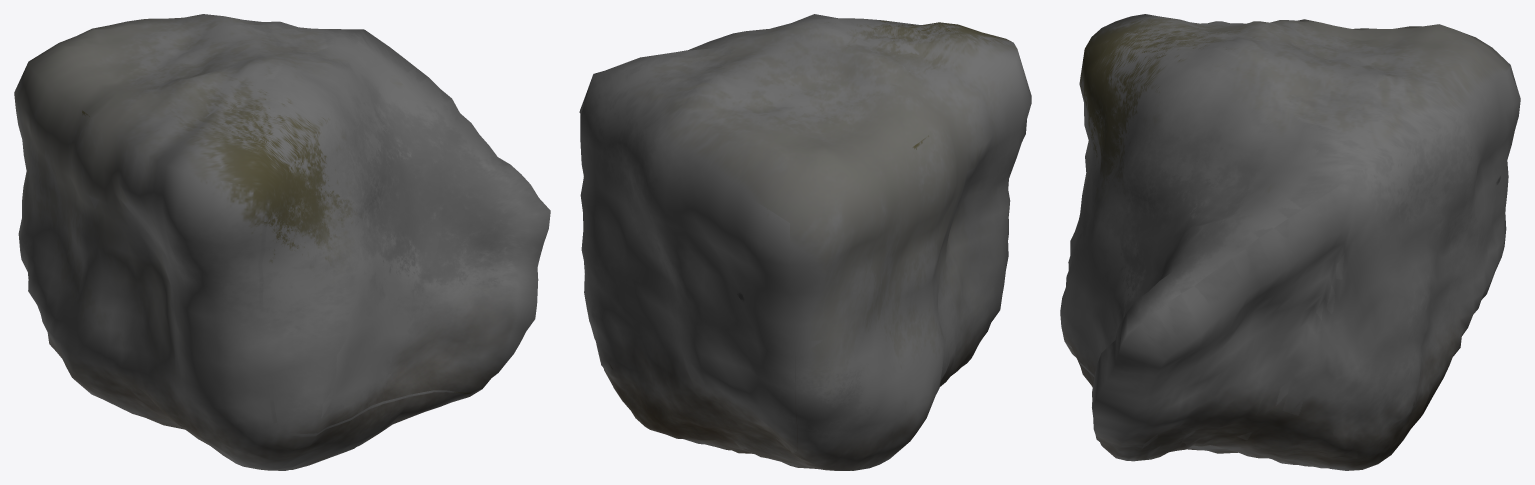
File: ROCK2.fbx
3 views of the same model, side by side, from view 1: azimuth 30°, elevation 25°; view 2: azimuth 150°, elevation 25°; view 3: azimuth 270°, elevation 25° (orthographic). The views are drawn at different scales.
Parts seen in each view (by area): view 1: rock; view 2: rock; view 3: rock.
Boxes of the visible parts, x1,y1,x2,y2 form: rock: (14,14,550,470); rock: (579,14,1031,470); rock: (1060,14,1520,470).
Bounding box in the file's own units: 146 × 139 × 146.
1 material, 1 textured.
